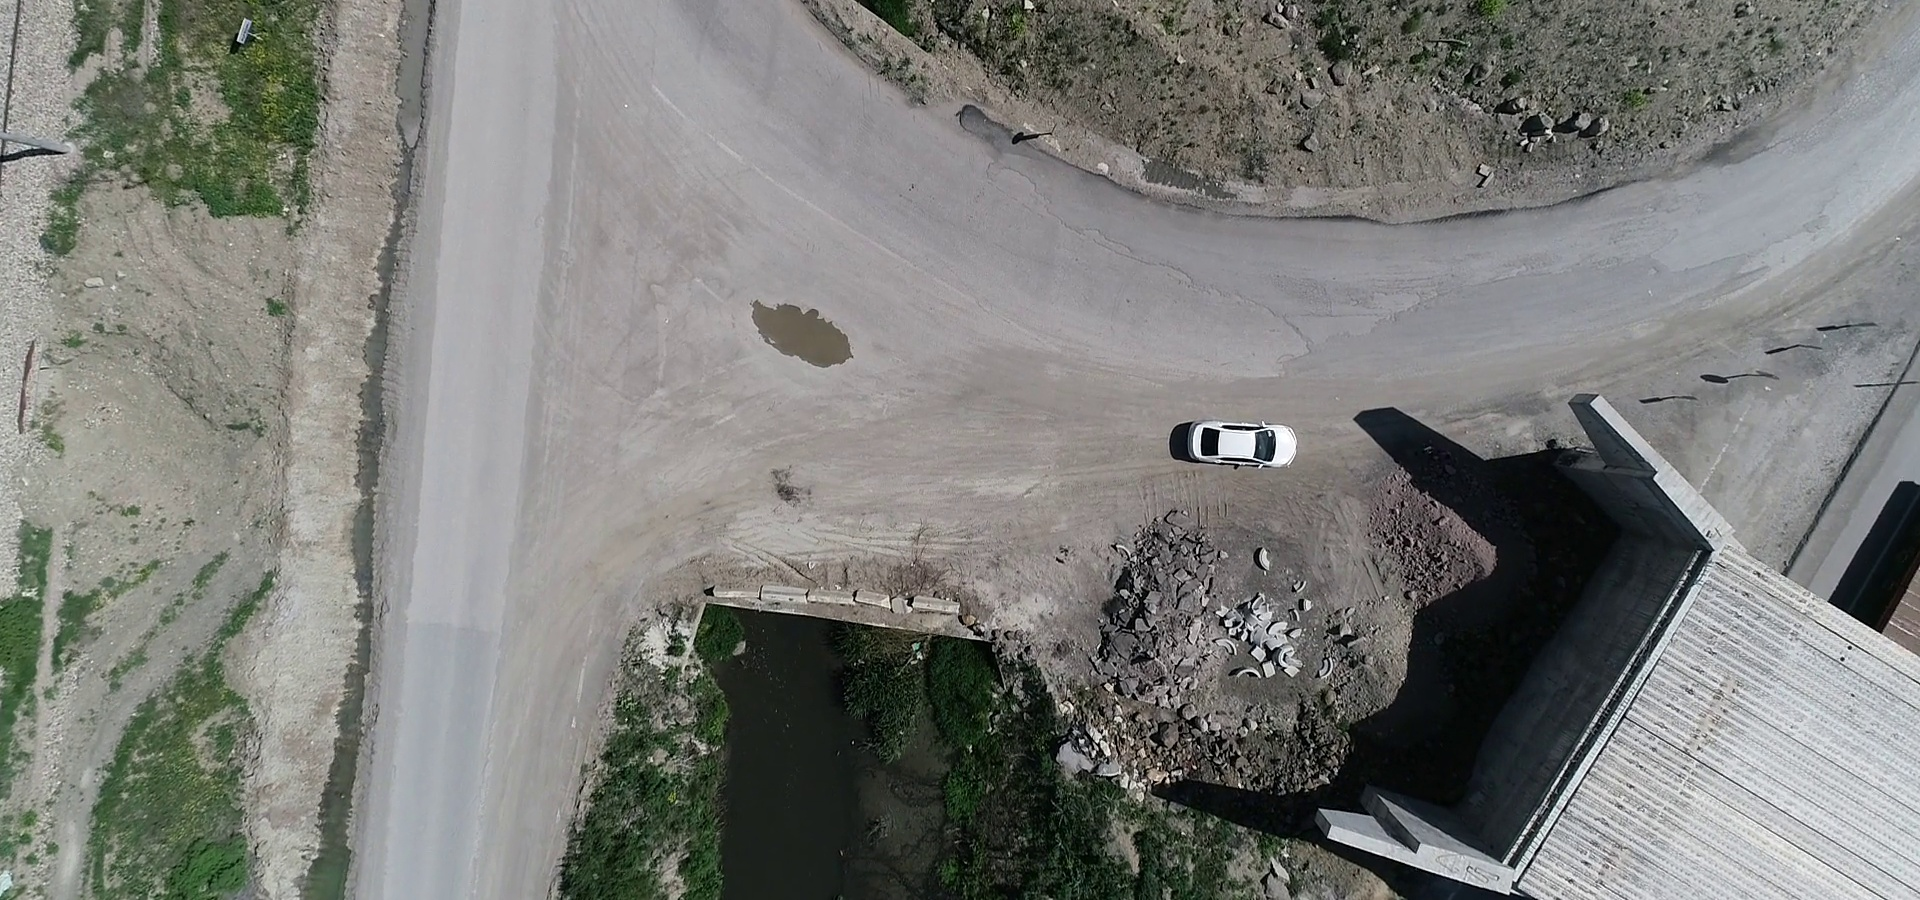araba: (1178, 408, 1316, 471)
